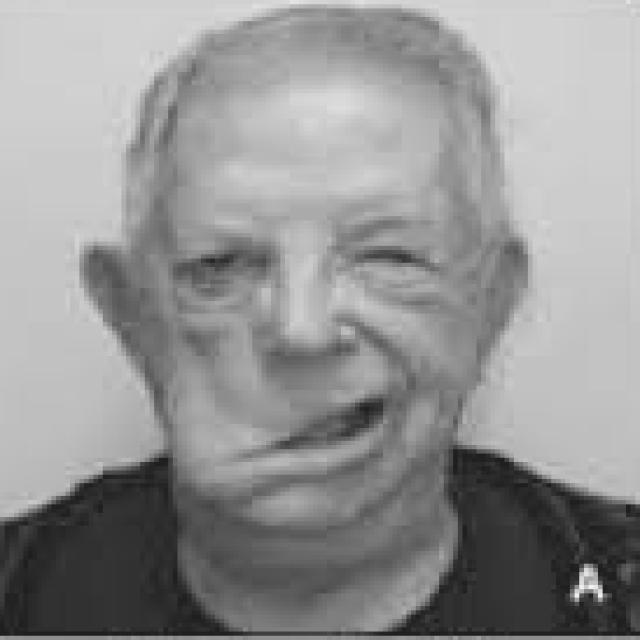stroke_face: (84, 15, 514, 560)
